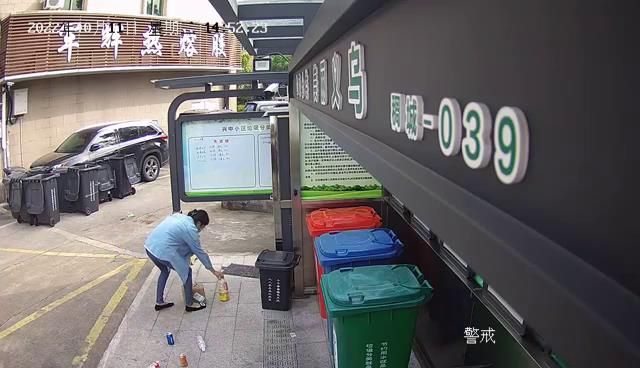lvzhipin: (178, 350, 188, 367), (165, 331, 175, 347)
suliaozhipin: (216, 268, 229, 302), (195, 333, 207, 353)
worker: (143, 206, 224, 312)
zhizhipin: (181, 281, 206, 307)
